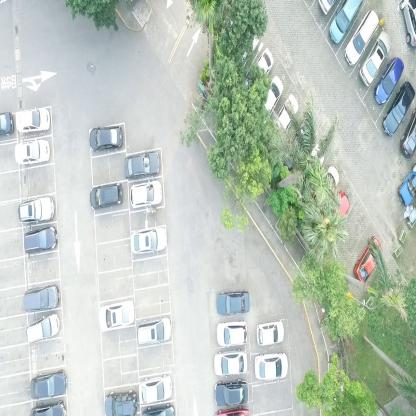car: (344, 9, 379, 67), (360, 29, 392, 88), (383, 82, 414, 138), (328, 0, 364, 44), (374, 56, 403, 106), (353, 236, 382, 283), (295, 144, 324, 190), (246, 47, 273, 96), (313, 162, 340, 210), (271, 94, 298, 141), (100, 298, 135, 334), (255, 74, 283, 119), (24, 281, 61, 315), (284, 124, 312, 168), (25, 310, 60, 345), (30, 367, 66, 401), (325, 192, 350, 238), (138, 371, 172, 404), (136, 314, 171, 346), (23, 223, 58, 255), (123, 148, 159, 179), (18, 193, 54, 224), (214, 378, 249, 408), (212, 347, 248, 376), (131, 224, 167, 253), (254, 352, 288, 382), (104, 386, 139, 415), (130, 178, 162, 208), (16, 106, 50, 134), (90, 123, 122, 152), (90, 183, 124, 210), (15, 138, 50, 164), (216, 319, 247, 348), (217, 288, 249, 315), (398, 161, 416, 206), (400, 0, 416, 48), (256, 320, 284, 347), (401, 107, 415, 159), (30, 400, 67, 416), (139, 402, 176, 415), (0, 110, 14, 138)
